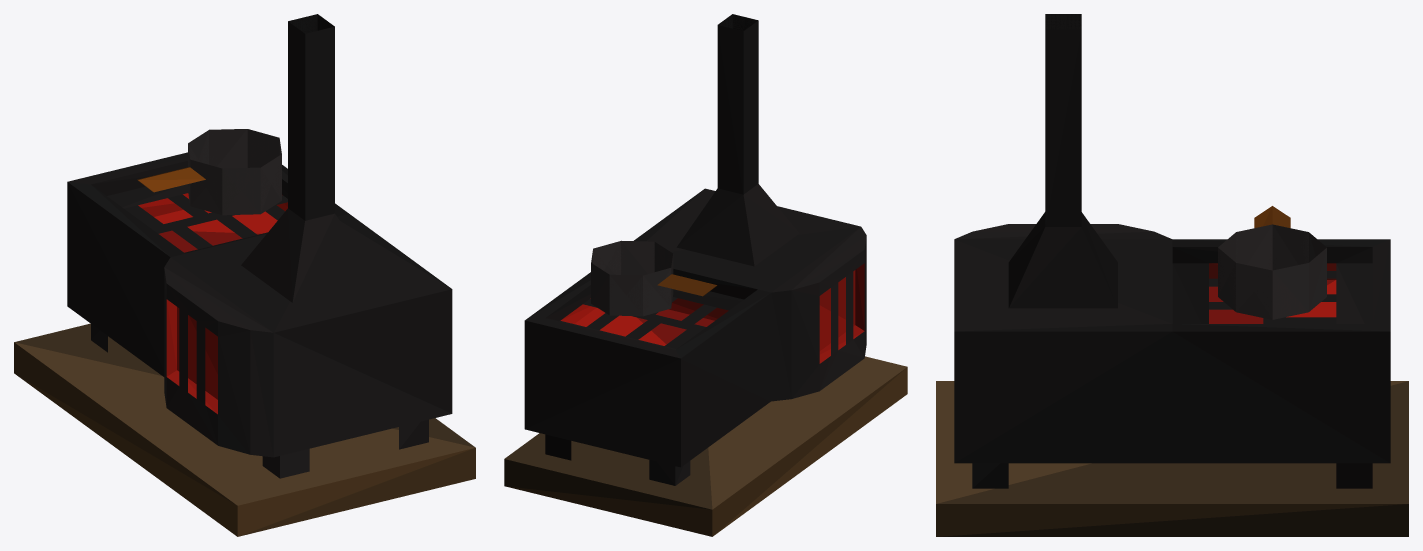
The model's file is range.obj.
3 views of the same model, side by side, from view 1: azimuth 30°, elevation 25°; view 2: azimuth 150°, elevation 25°; view 3: azimuth 270°, elevation 25° (orthographic). The views are drawn at different scales.
Visible parts, largest first — view 1: Object Cooking range 2026-09-12_20-20-24; view 2: Object Cooking range 2026-09-12_20-20-24; view 3: Object Cooking range 2026-09-12_20-20-24.
Part boxes in pixels (box(x1,y1,x2,y2)): Object Cooking range 2026-09-12_20-20-24: box(14, 14, 475, 536); Object Cooking range 2026-09-12_20-20-24: box(504, 14, 907, 536); Object Cooking range 2026-09-12_20-20-24: box(936, 14, 1408, 536).
Bounding box in the file's own units: 128 × 224 × 208.
